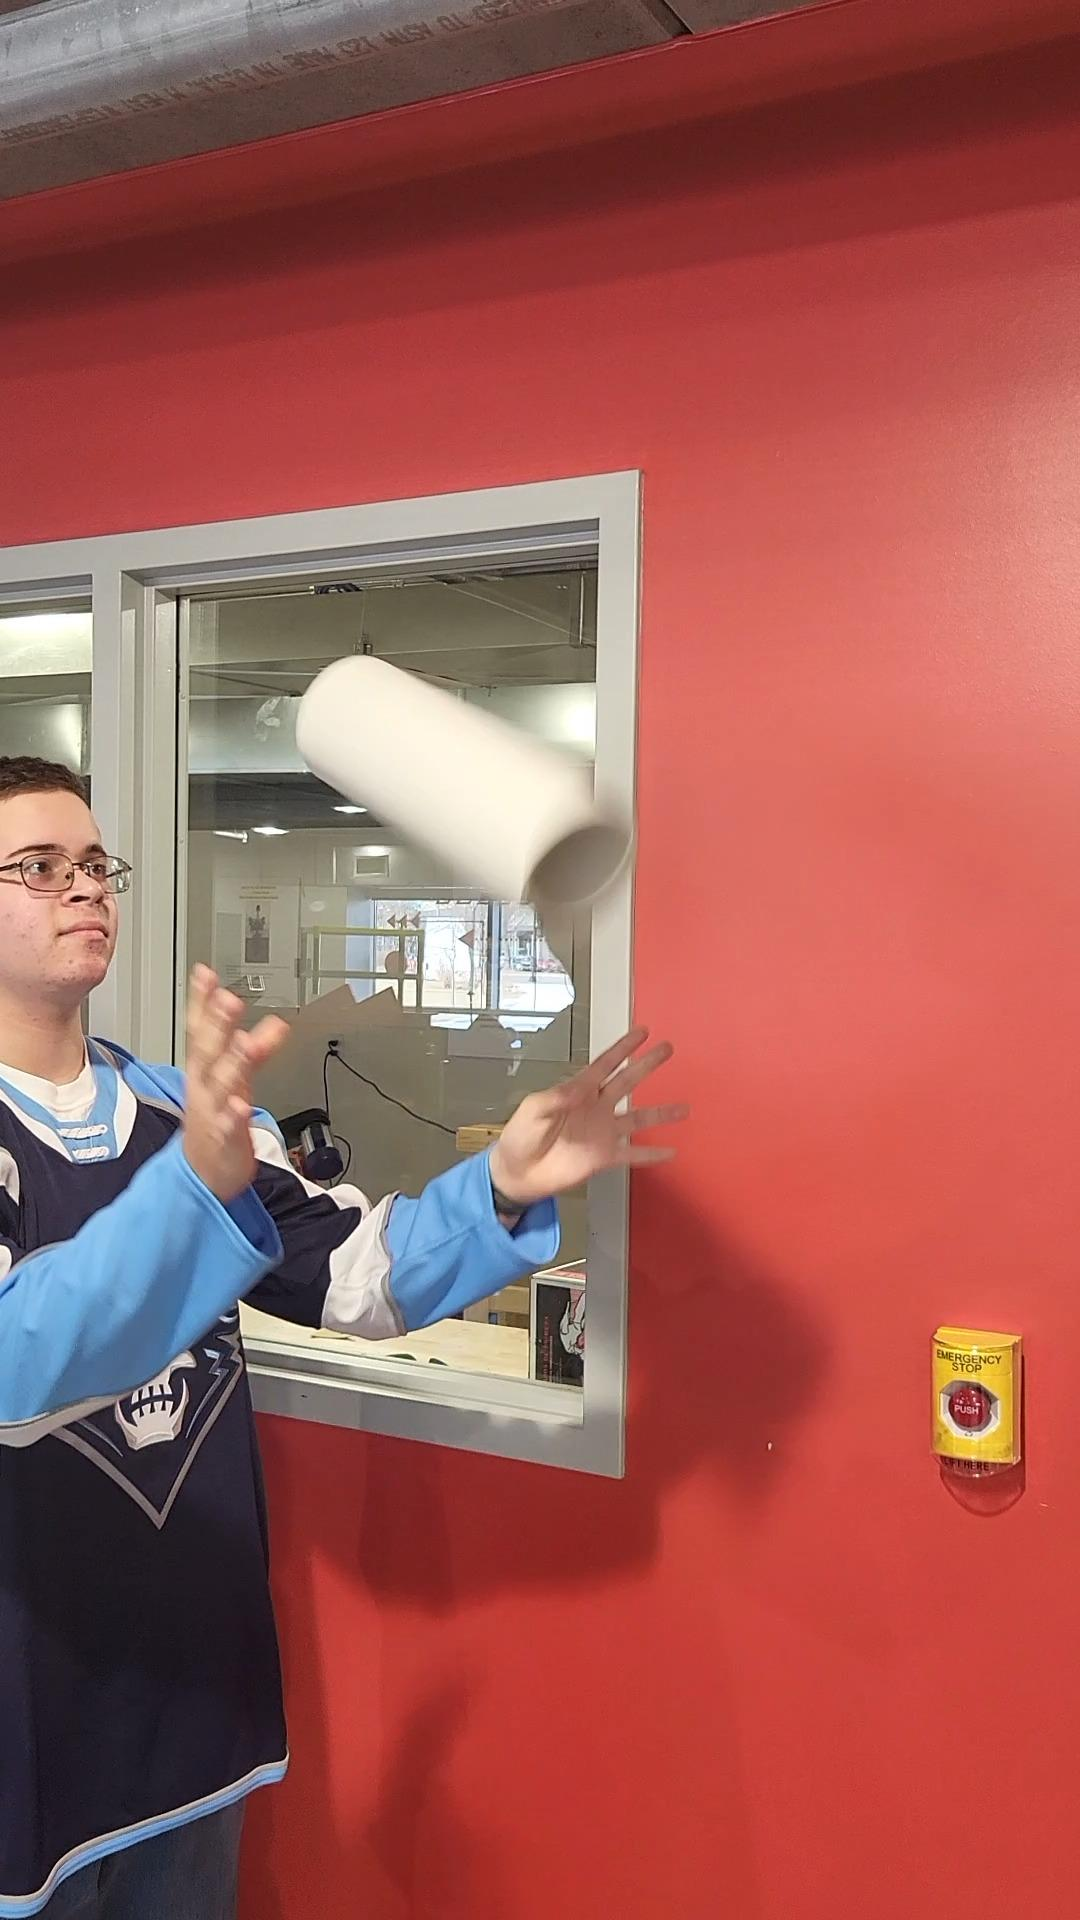coral: (293, 634, 644, 923)
